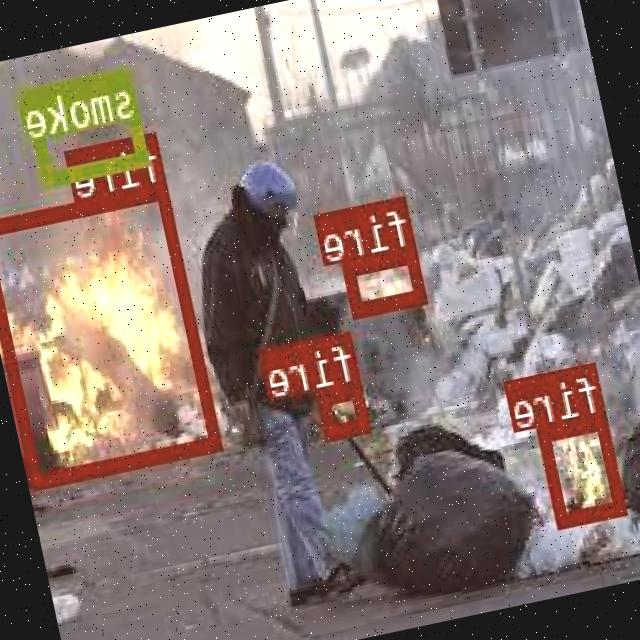fire: (0, 181, 224, 487), (539, 410, 627, 523), (344, 245, 429, 314), (316, 379, 372, 436)
smoke: (27, 65, 152, 184)
